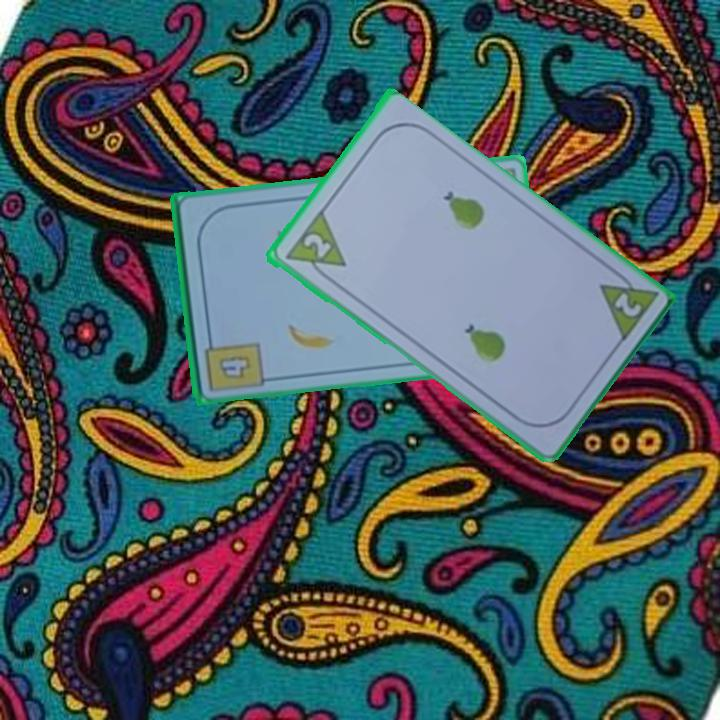2p: (298, 229, 334, 261), (609, 289, 644, 321)
4b: (215, 351, 254, 382)
